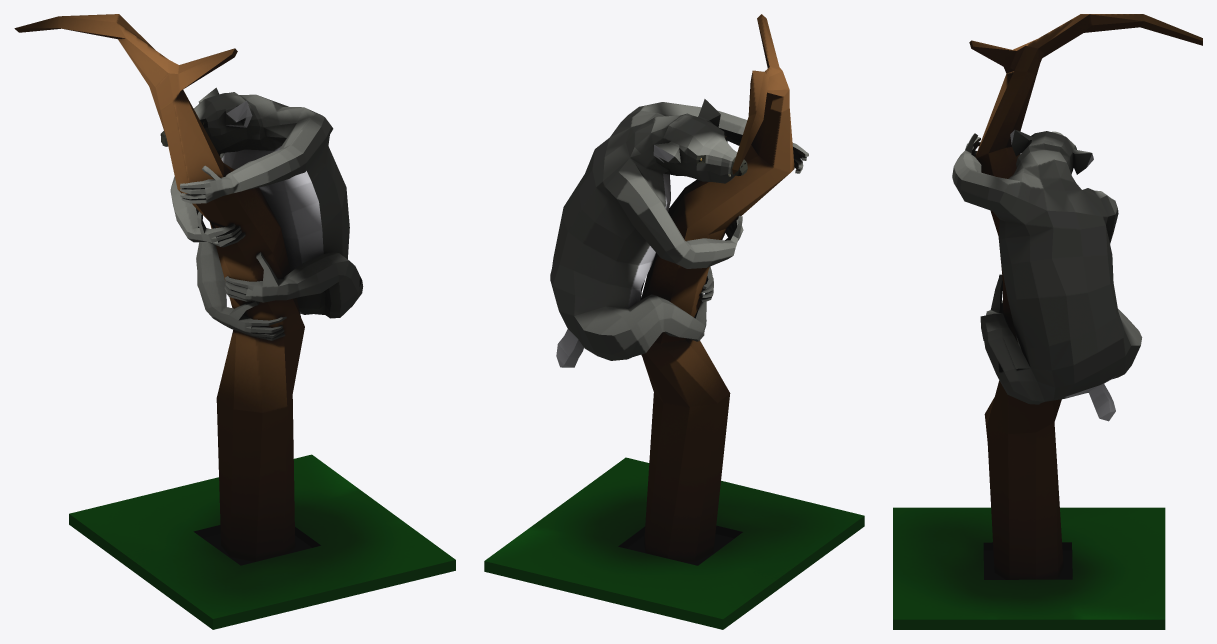
The model's file is megaladapis.glb.
3 renders of one model, left to right at view 1: azimuth 30°, elevation 25°; view 2: azimuth 150°, elevation 25°; view 3: azimuth 270°, elevation 25°, orthographic. The views are drawn at different scales.
Bounding box in the file's own units: 1.34 × 2.49 × 1.37.
Materials: 1 (1 with a texture image).
